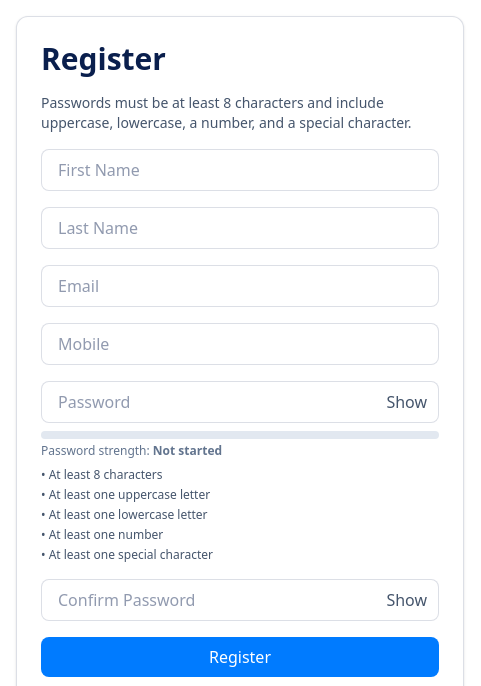
Scenario: RegisterPage › shows validation error when first name is missing
In the field with placeholder "Last Name": (240, 228) [41,207,439,249], type "Durcan"
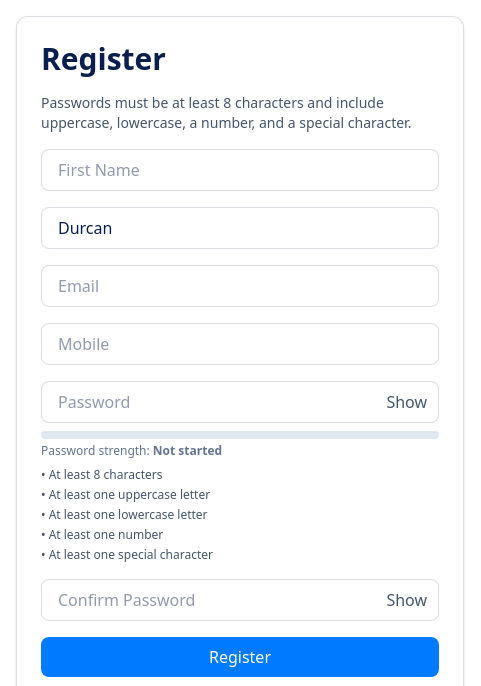
In the field with placeholder "Email": (240, 286) [41,265,439,307], type "sean@example.com"
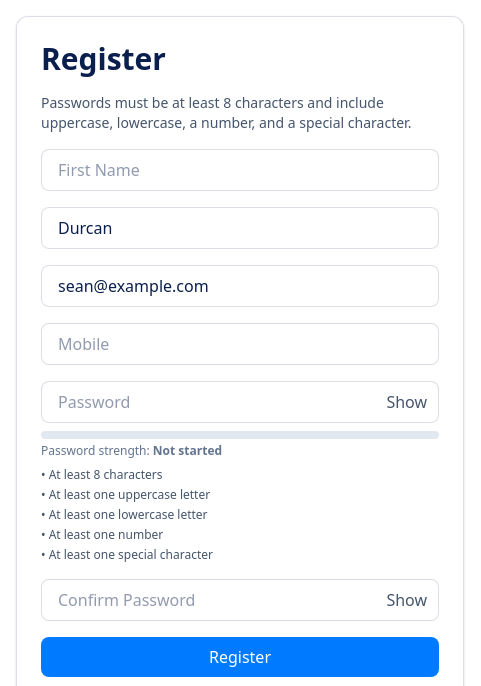
In the field with placeholder "Mobile": (240, 344) [41,323,439,365], type "0871234567"
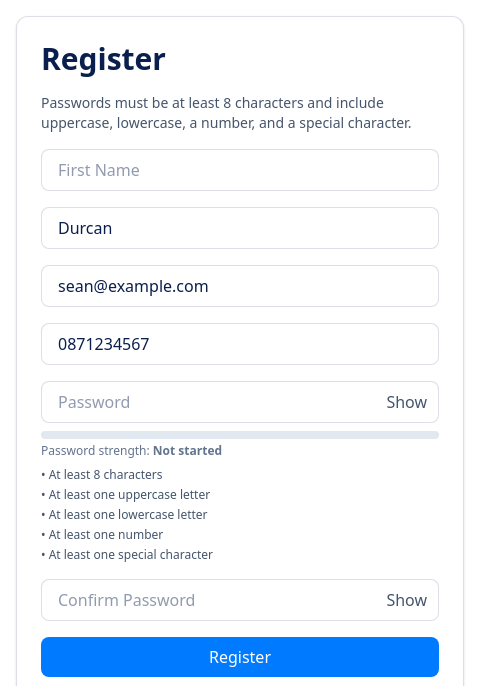
In the password field with placeholder "Password": (240, 402) [41,381,439,423], type "Password123!"
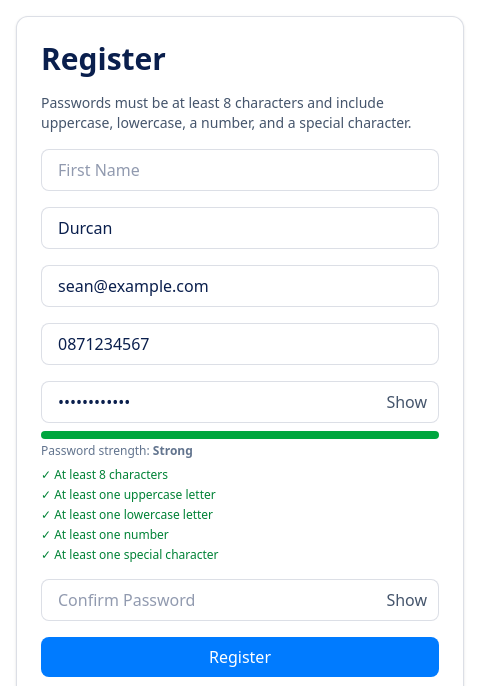
In the password field with placeholder "Confirm Password": (240, 600) [41,579,439,621], type "Password123!"
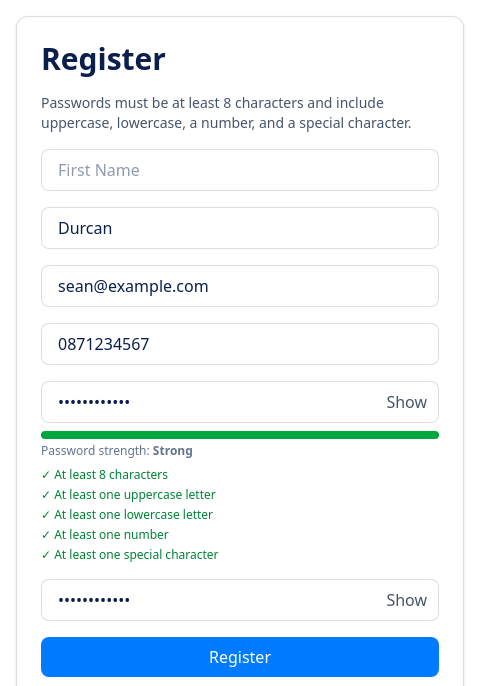
Click the button "Register": (240, 657) [41,637,439,677]
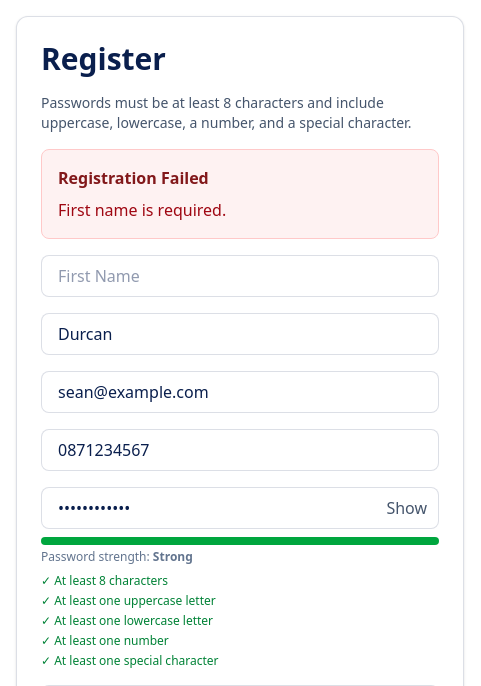
Expected: the text "First name is required." is shown, [58,199,226,221]
